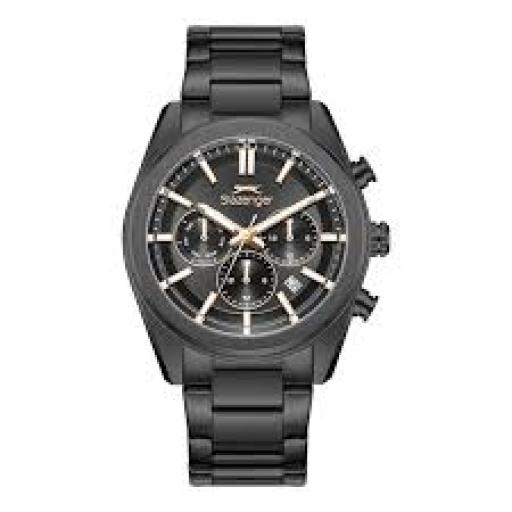KolSaati: (105, 18, 393, 506)
